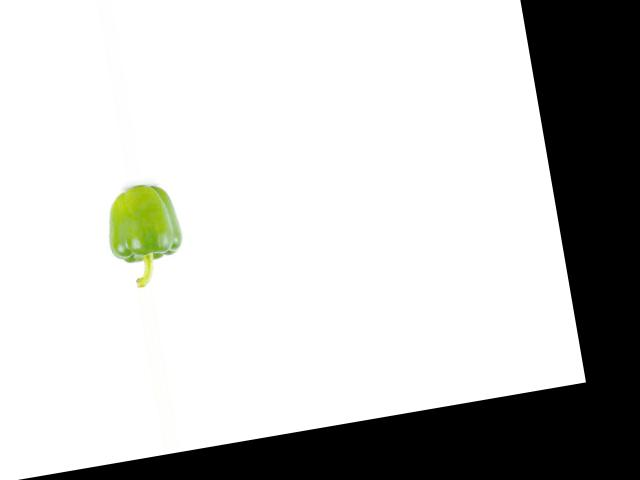bell_pepper: (99, 177, 200, 289)
